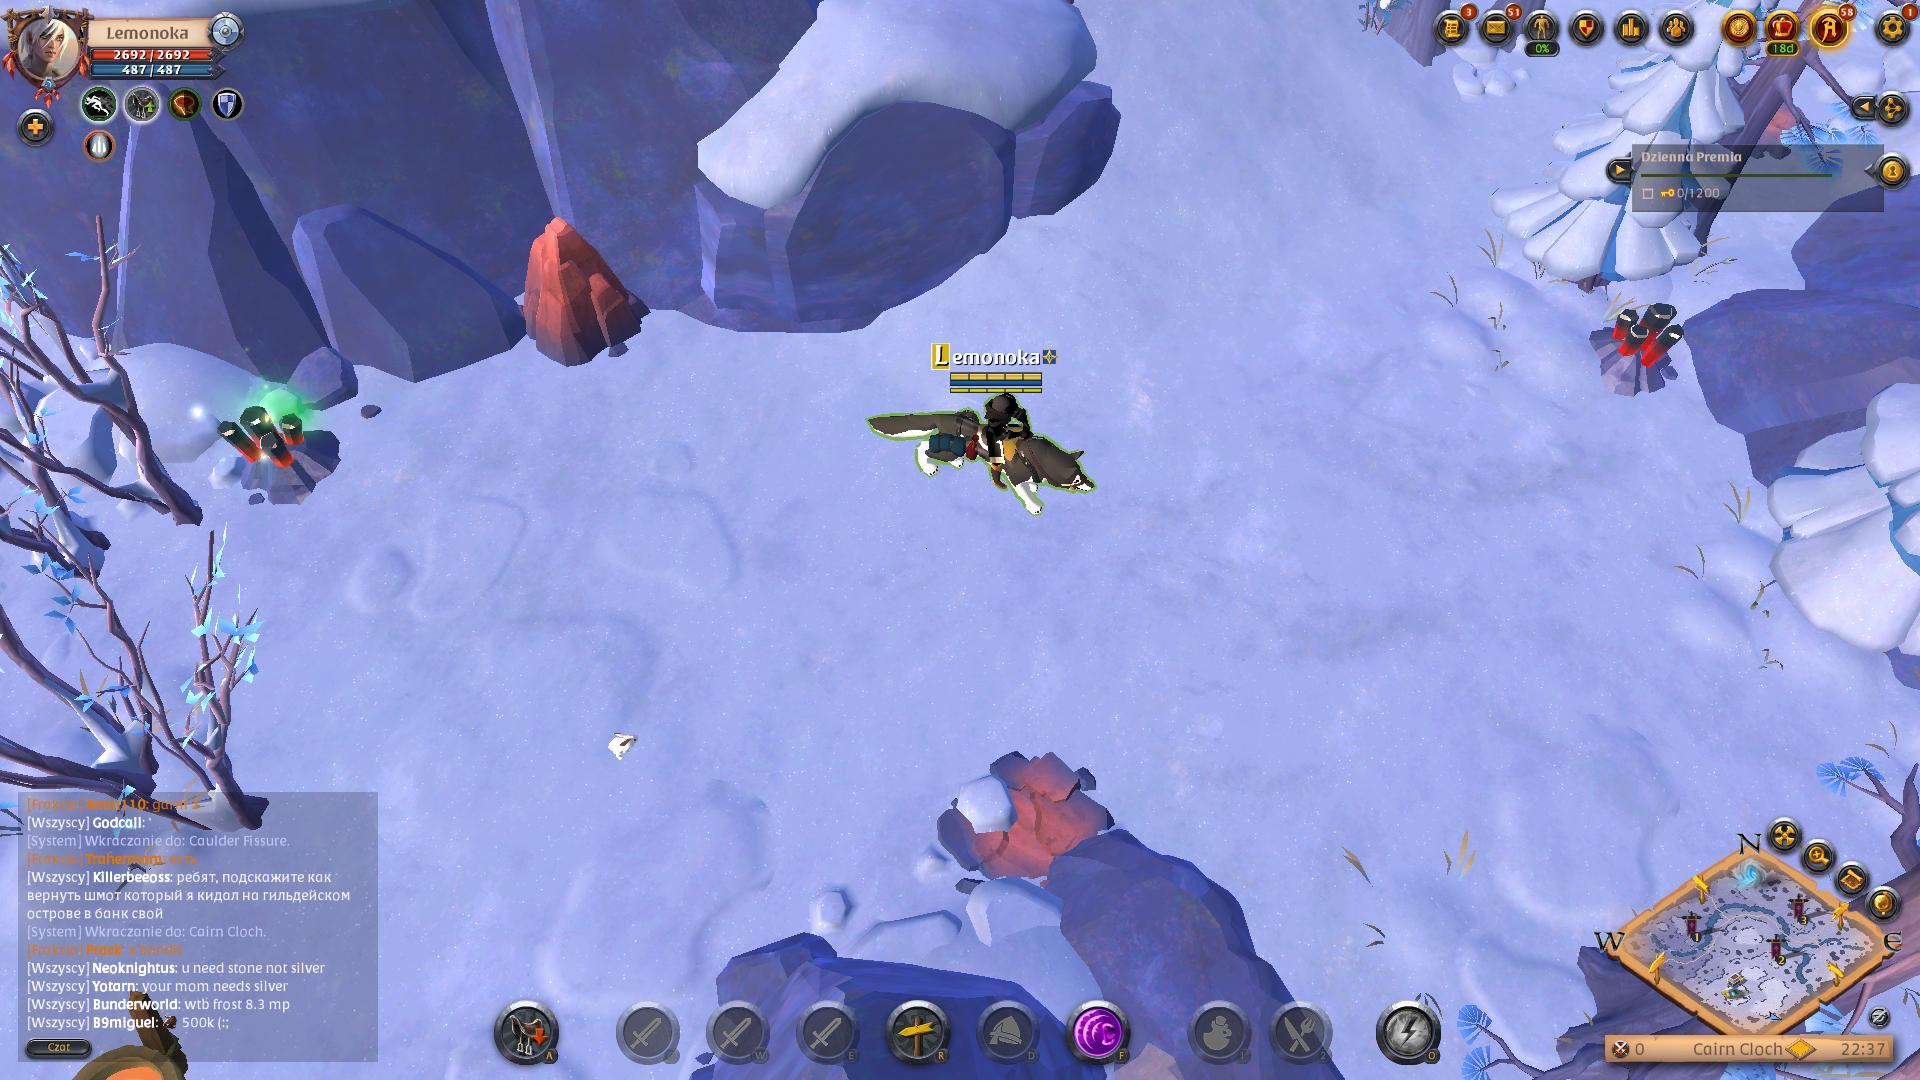ore tier 5: (203, 392, 347, 510), (1584, 297, 1687, 398)
rock tier 5: (512, 214, 653, 365)
